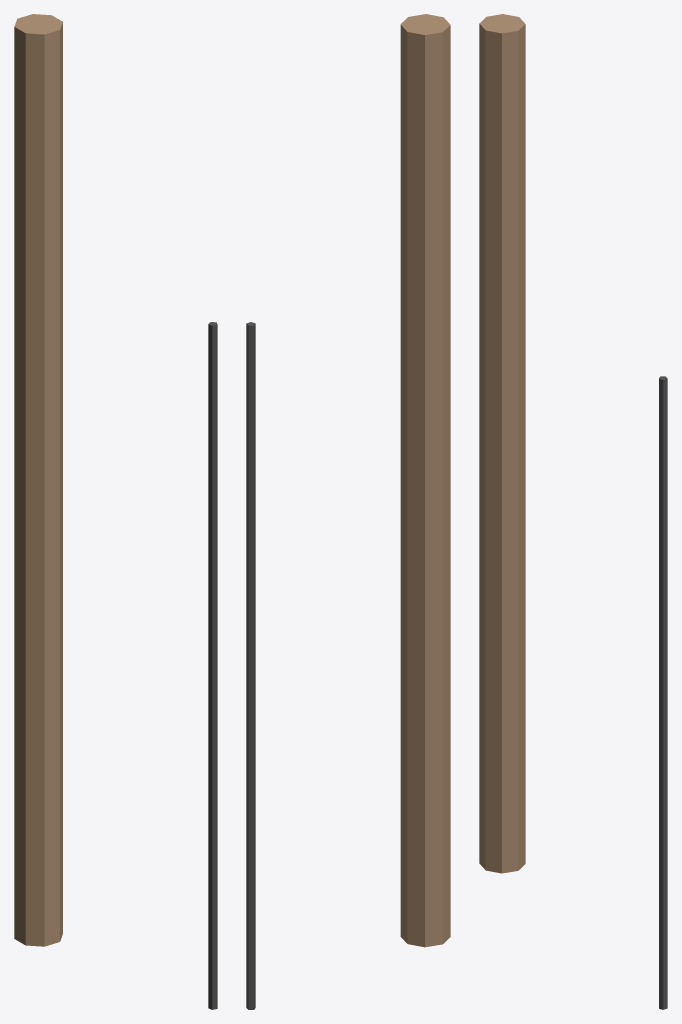
File: fallen_powerline.glb
3 renders of one model, left to right at view 1: azimuth 30°, elevation 25°; view 2: azimuth 150°, elevation 25°; view 3: azimuth 330°, elevation 25°, orthographic. The views are drawn at different scales.
Parts seen in each view (by area): view 1: pole, line; view 2: pole, line; view 3: pole, line.
Part boxes in pixels (x1,y1,x2,y2): pole: (14, 14, 62, 946); line: (208, 322, 217, 1009); pole: (400, 14, 450, 947); line: (246, 322, 255, 1009); pole: (479, 14, 525, 873); line: (659, 376, 667, 1009).
Size of the model in its own units: 0.9151 by 4.5 by 0.1908.
